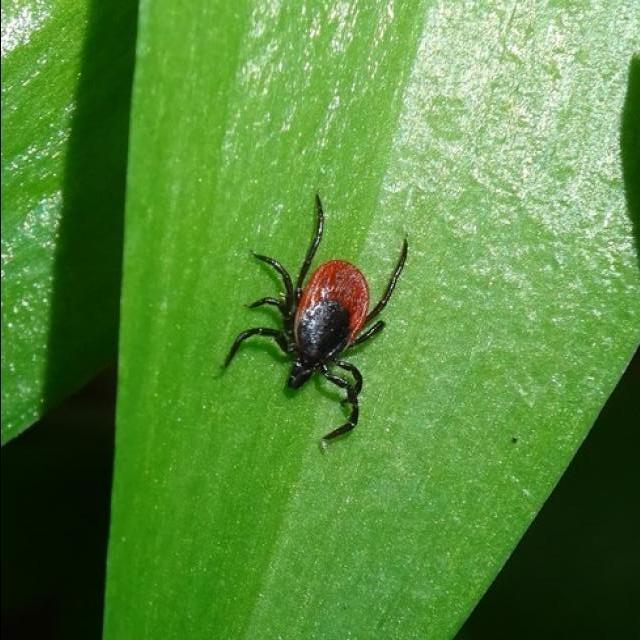Ixodes Ricinus-F: (219, 193, 406, 445)
